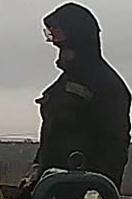gloves: (16, 159, 47, 191)
helmet: (43, 20, 70, 47)
vest: (18, 62, 131, 197)
